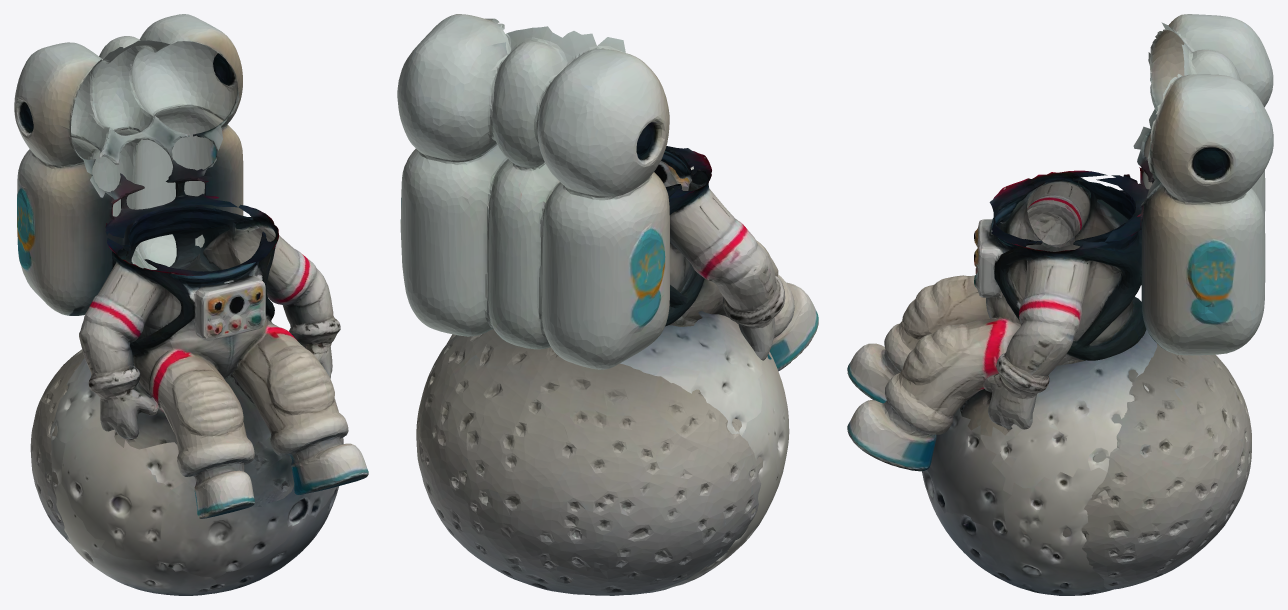
File: astronaut_body.glb
The picture shows the model from 3 angles, left to right: view 1: azimuth 30°, elevation 25°; view 2: azimuth 150°, elevation 25°; view 3: azimuth 270°, elevation 25°; orthographic projection. The views are drawn at different scales.
Parts seen in each view (by area): view 1: tmp34g0m7c8ply002; view 2: tmp34g0m7c8ply002; view 3: tmp34g0m7c8ply002.
Boxes of the visible parts, x1,y1,x2,y2 form: tmp34g0m7c8ply002: (14, 14, 368, 595); tmp34g0m7c8ply002: (397, 14, 818, 595); tmp34g0m7c8ply002: (847, 14, 1273, 595).
Size of the model in its own units: 1.04 by 1.86 by 1.36.
Materials: 2 (2 with a texture image).
